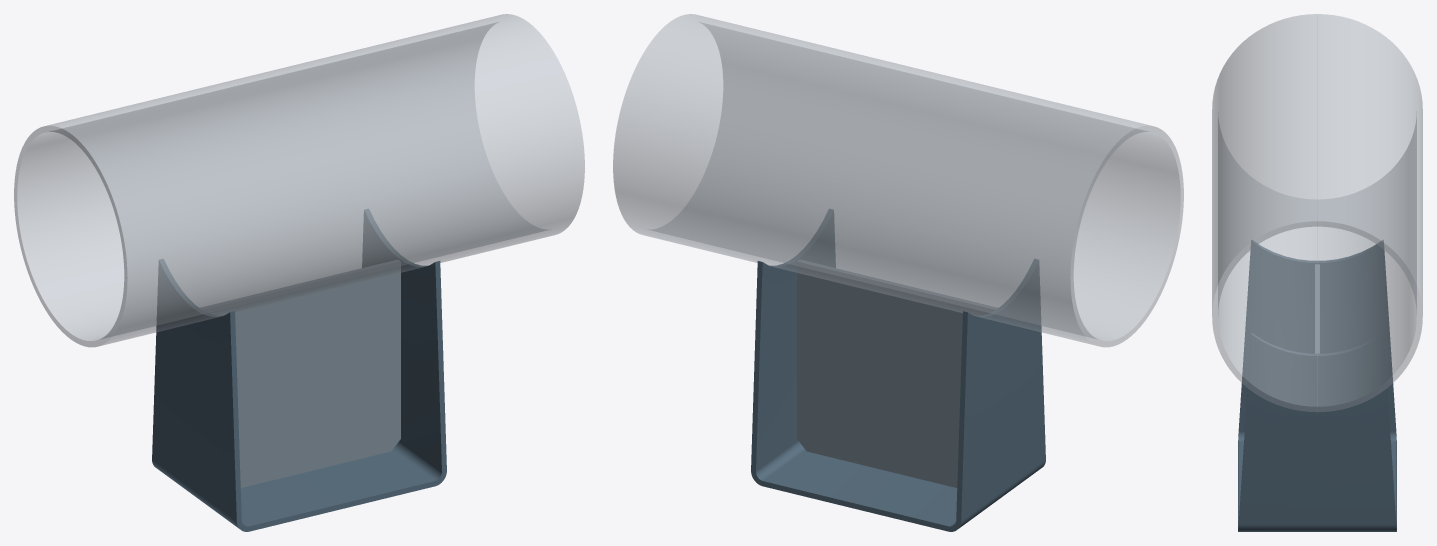
The model's file is TS-623.000-10-opora-dn159-H150-L170.glb.
3 renders of one model, left to right at view 1: azimuth 30°, elevation 25°; view 2: azimuth 150°, elevation 25°; view 3: azimuth 270°, elevation 25°, orthographic. The views are drawn at different scales.
Visible parts, largest first — view 1: truba, skoba, rebro; view 2: truba, skoba, rebro; view 3: truba, skoba, rebro.
Part boxes in pixels (box(x1,y1,x2,y2)): truba: box(14, 14, 584, 347); skoba: box(152, 209, 446, 531); rebro: box(200, 260, 400, 487); truba: box(613, 14, 1183, 347); skoba: box(751, 209, 1045, 531); rebro: box(797, 260, 997, 487); truba: box(1212, 14, 1422, 412); skoba: box(1238, 240, 1396, 531); rebro: box(1315, 264, 1319, 353).
Size of the model in its own units: 370 by 309 by 159.
